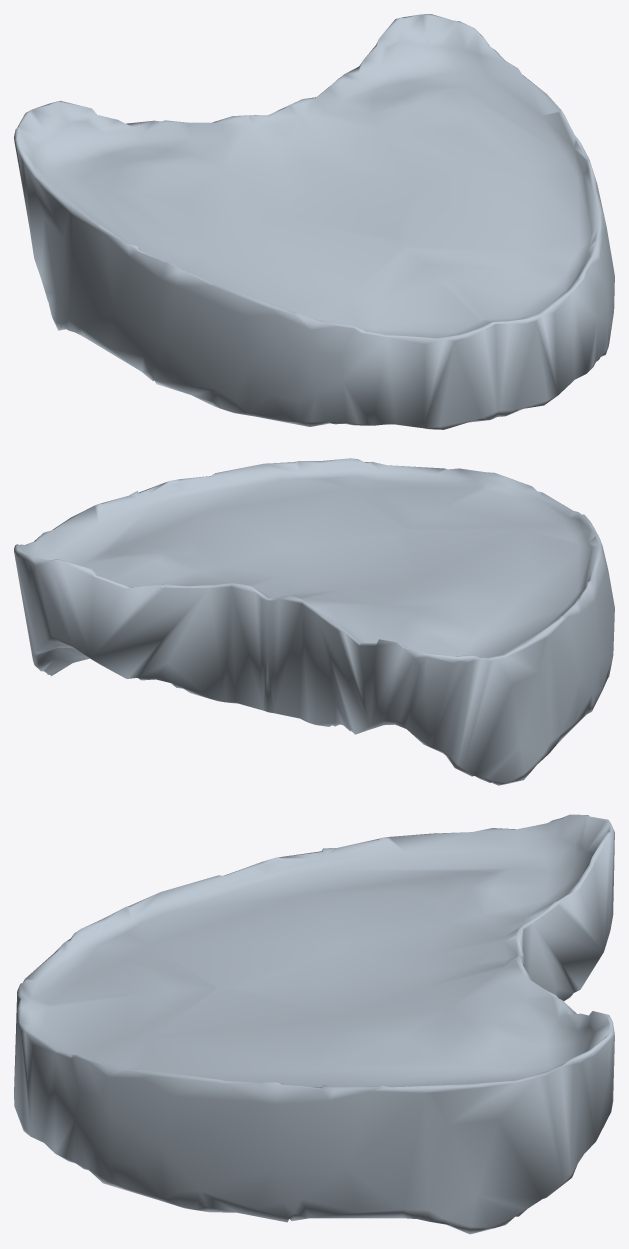
Rendered from intervertebral-disc-t5-t6.glb.
The picture shows the model from 3 angles, top to bottom: view 1: azimuth 30°, elevation 25°; view 2: azimuth 150°, elevation 25°; view 3: azimuth 270°, elevation 25°; orthographic projection. The views are drawn at different scales.
Parts seen in each view (by area): view 1: Intervertebral disc T5-T6; view 2: Intervertebral disc T5-T6; view 3: Intervertebral disc T5-T6.
Part boxes in pixels (<box>): Intervertebral disc T5-T6: <box>14,14,614,429</box>; Intervertebral disc T5-T6: <box>14,458,614,785</box>; Intervertebral disc T5-T6: <box>14,814,614,1234</box>.
Bounding box in the file's own units: 0.0321 × 0.0107 × 0.0315.
